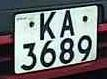3: (20, 41, 38, 71)
6: (38, 40, 58, 68)
8: (57, 37, 76, 65)
9: (76, 34, 94, 63)
A: (58, 7, 77, 40)
K: (37, 9, 57, 42)
